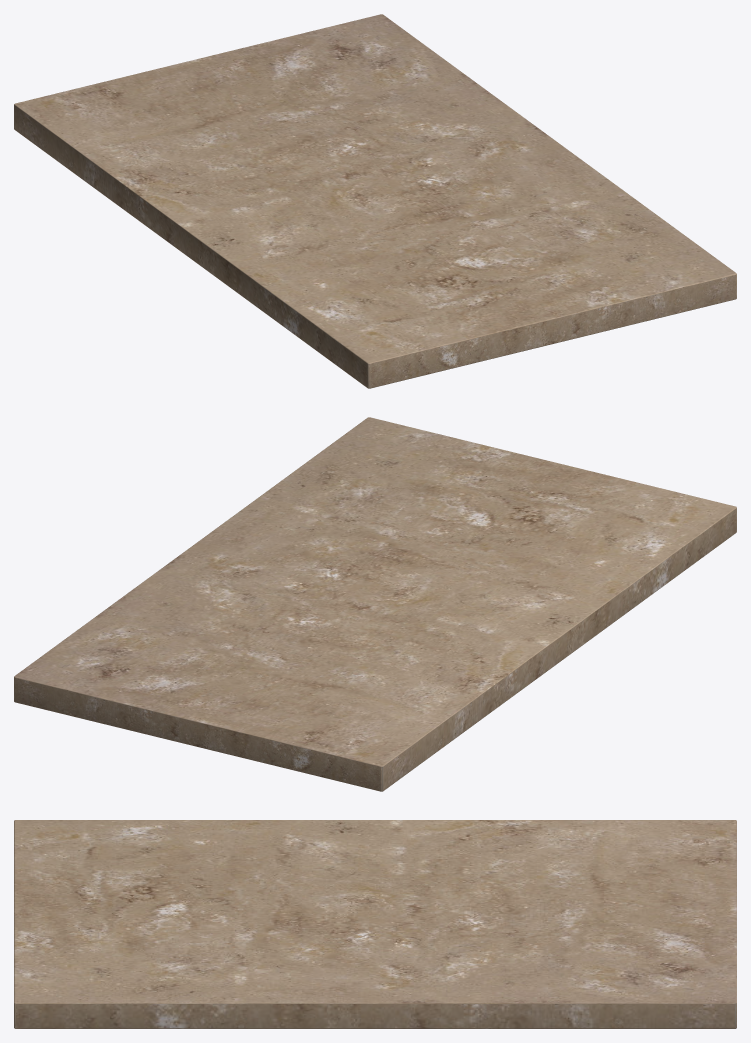
The model's file is countertop-1m-by-0.6m.glb.
3 renders of one model, top to bottom at view 1: azimuth 30°, elevation 25°; view 2: azimuth 150°, elevation 25°; view 3: azimuth 270°, elevation 25°, orthographic.
Visible parts, largest first — view 1: countertop; view 2: countertop; view 3: countertop.
Boxes of the visible parts, box(x1,y1,x2,y2) form: countertop: box(14, 14, 736, 388); countertop: box(14, 417, 736, 791); countertop: box(14, 820, 736, 1028).
Size of the model in its own units: 0.6 by 0.04 by 1.
1 material, 1 textured.
